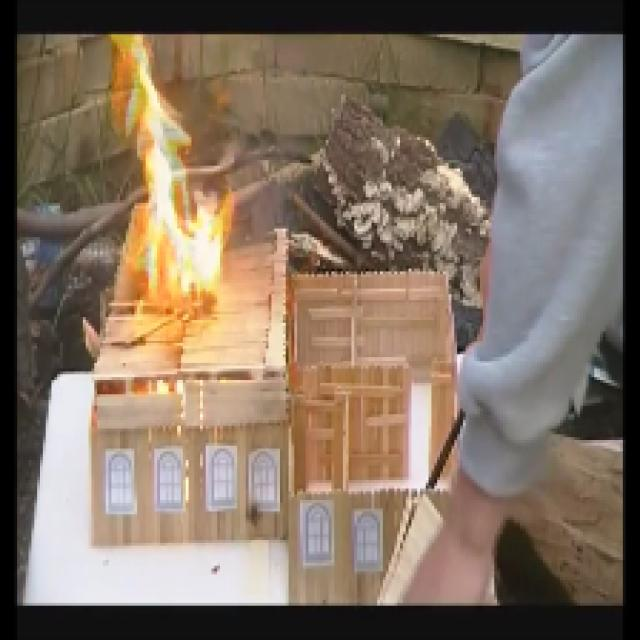fire: (110, 37, 228, 299)
